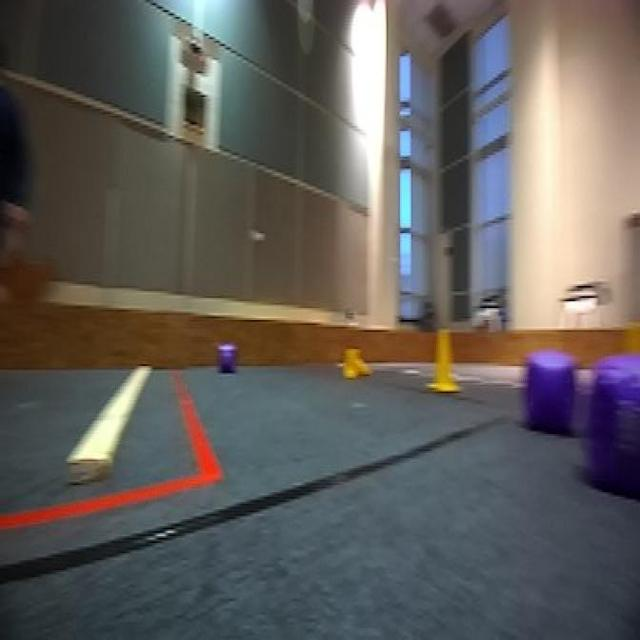frc_cone: (428, 325, 462, 395), (338, 344, 372, 383)
frc_cube: (582, 352, 640, 480), (524, 359, 575, 432), (215, 342, 237, 376)
